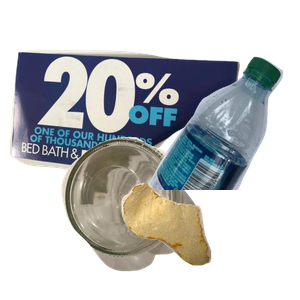glass: (59, 135, 254, 300)
paper: (10, 41, 242, 207)
plastic: (142, 54, 300, 234)
trash: (119, 181, 300, 300)
